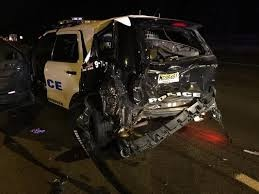Smashed: (73, 18, 220, 171)
